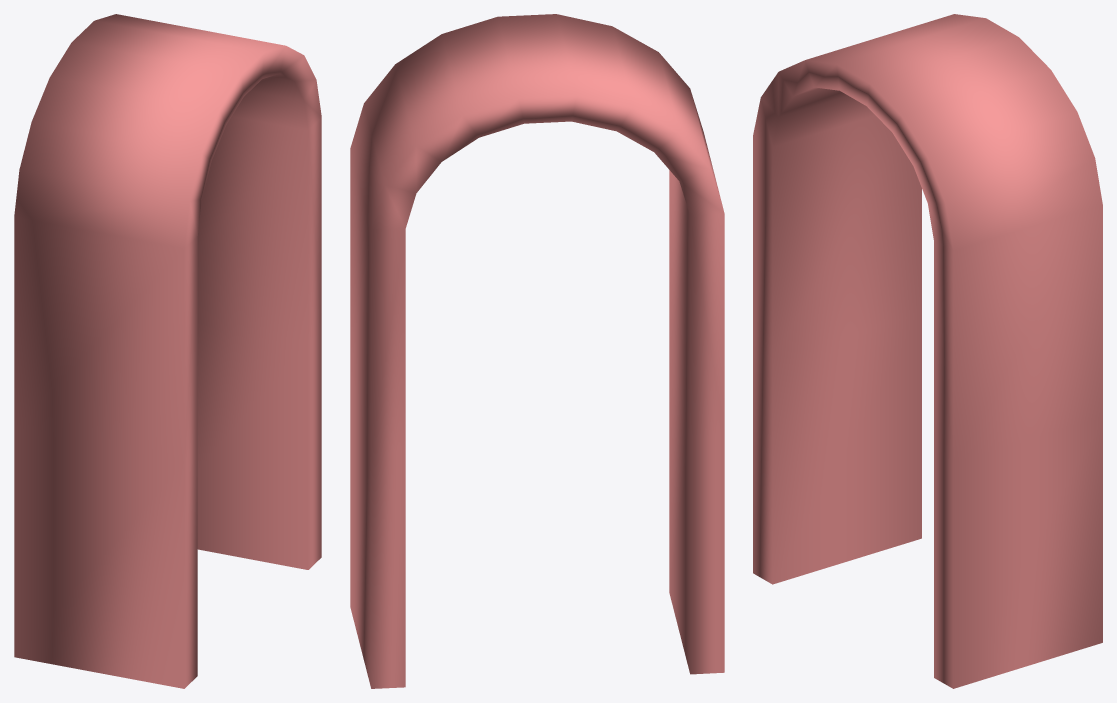
Rendered from Door.gltf.
3 views of the same model, side by side, from view 1: azimuth 30°, elevation 25°; view 2: azimuth 150°, elevation 25°; view 3: azimuth 270°, elevation 25° (orthographic). The views are drawn at different scales.
Visible parts, largest first — view 1: Door; view 2: Door; view 3: Door.
Boxes of the visible parts, x1,y1,x2,y2 form: Door: [14, 14, 321, 688]; Door: [350, 14, 724, 688]; Door: [753, 14, 1102, 688].
Size of the model in its own units: 1.94 by 3.12 by 1.77.
